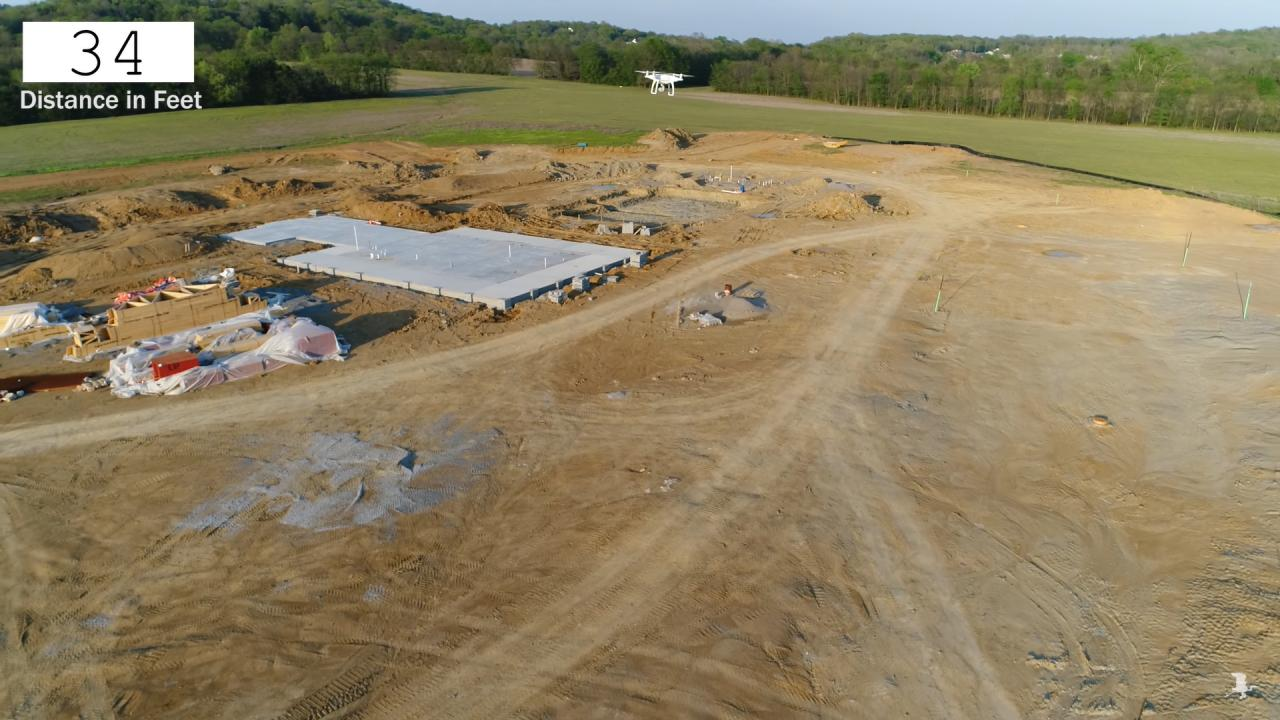Drone: (627, 61, 704, 105)
